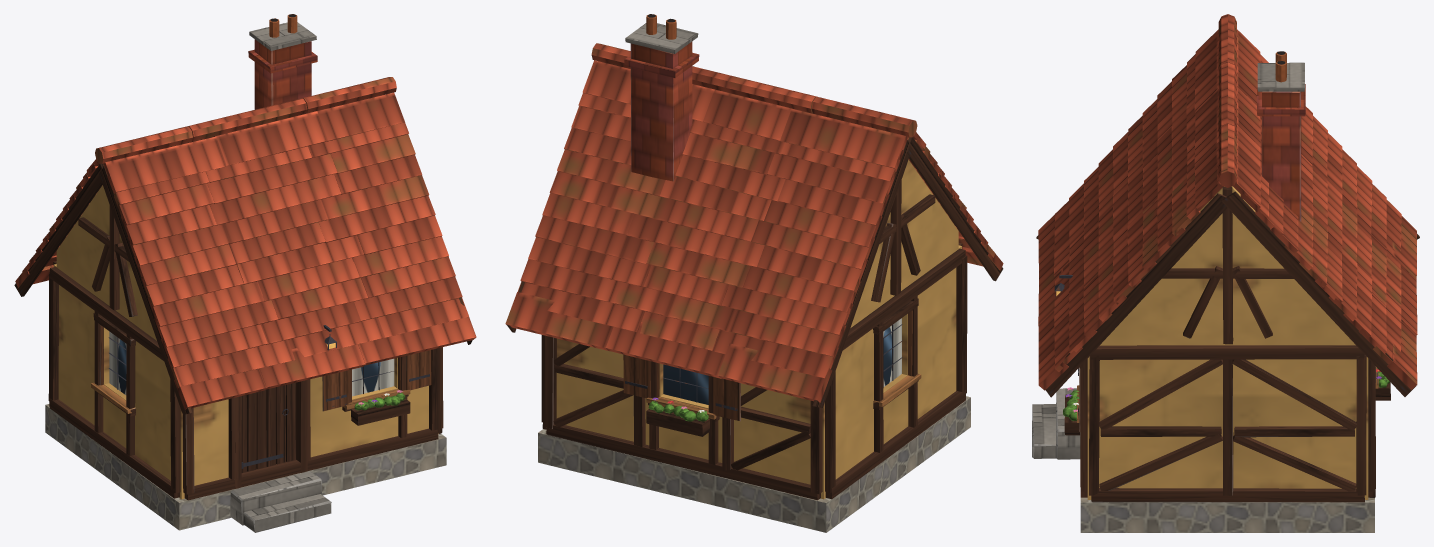
Rendered from SM_Cottage_Small_LOD1.gltf.
The picture shows the model from 3 angles, left to right: view 1: azimuth 30°, elevation 25°; view 2: azimuth 150°, elevation 25°; view 3: azimuth 270°, elevation 25°; orthographic projection. The views are drawn at different scales.
Parts seen in each view (by area): view 1: SM_Cottage_Small_LOD1; view 2: SM_Cottage_Small_LOD1; view 3: SM_Cottage_Small_LOD1.
Boxes of the visible parts, x1,y1,x2,y2 form: SM_Cottage_Small_LOD1: [14, 14, 476, 532]; SM_Cottage_Small_LOD1: [505, 14, 1003, 532]; SM_Cottage_Small_LOD1: [1032, 14, 1419, 532].
Size of the model in its own units: 5.01 by 6.49 by 5.22.
2 materials, 2 textured.
